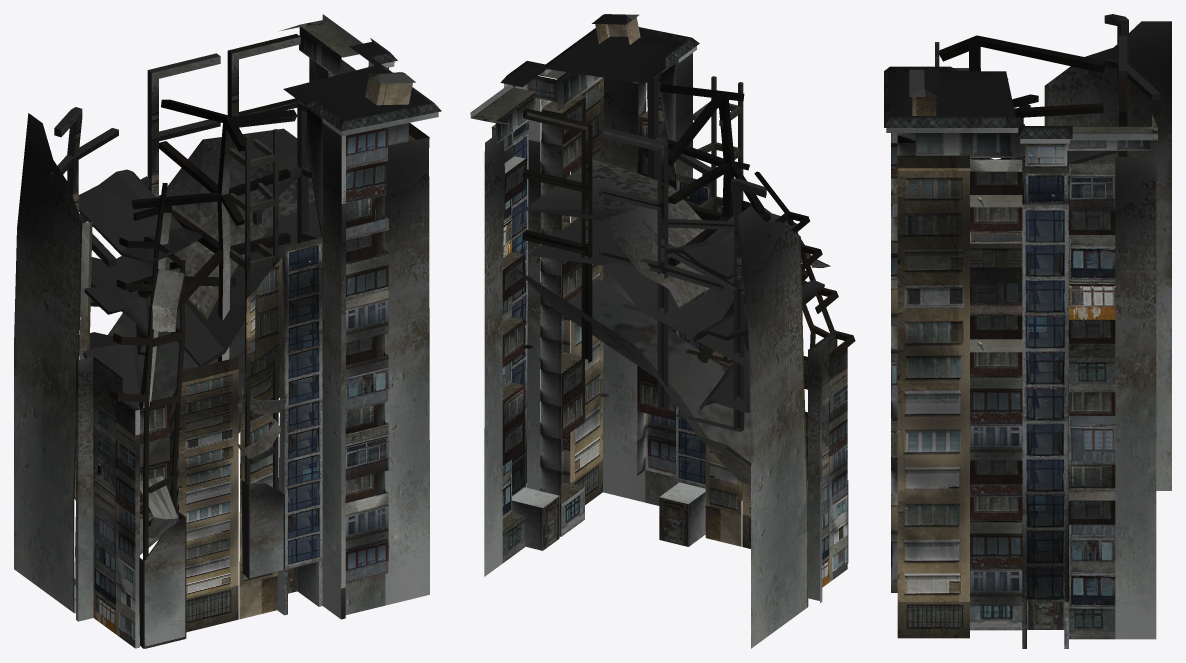
File: Ruin_Apartment_03.fbx
3 views of the same model, side by side, from view 1: azimuth 30°, elevation 25°; view 2: azimuth 150°, elevation 25°; view 3: azimuth 270°, elevation 25° (orthographic). The views are drawn at different scales.
Parts seen in each view (by area): view 1: Ruin_Apartment_03_Part0_project_building01a; view 2: Ruin_Apartment_03_Part0_project_building01a; view 3: Ruin_Apartment_03_Part0_project_building01a.
Part boxes in pixels (x1,y1,x2,y2): Ruin_Apartment_03_Part0_project_building01a: [14, 14, 441, 648]; Ruin_Apartment_03_Part0_project_building01a: [470, 14, 855, 648]; Ruin_Apartment_03_Part0_project_building01a: [884, 14, 1171, 648].
Size of the model in its own units: 1.47 by 2.31 by 1.1.
